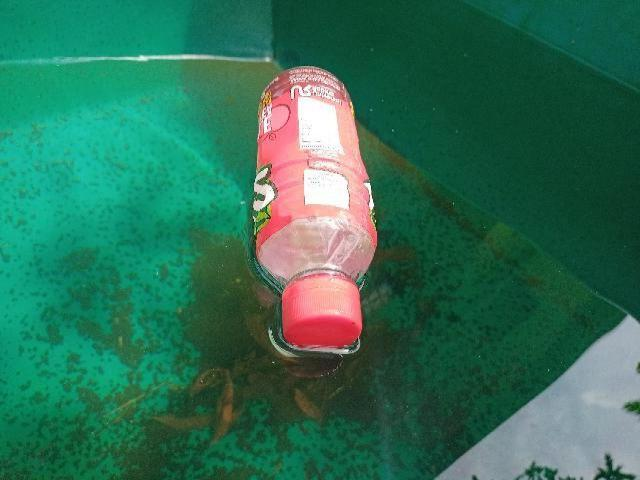Bottle: (242, 59, 388, 361)
